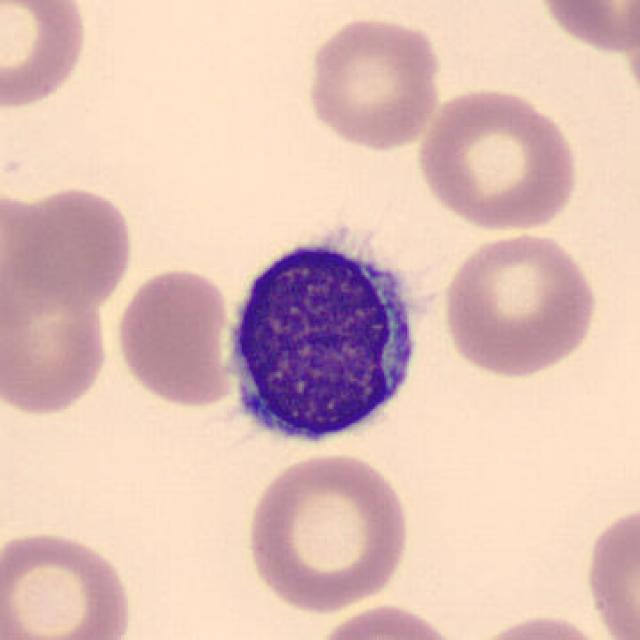Lymphocyte: (212, 216, 430, 456)
RBC: (240, 448, 416, 615), (413, 83, 583, 234), (437, 229, 603, 381), (0, 225, 117, 421), (302, 13, 446, 154), (112, 263, 240, 409), (3, 182, 137, 316), (0, 525, 139, 640), (0, 0, 91, 113), (579, 497, 640, 640), (310, 601, 468, 640), (531, 0, 640, 56), (457, 610, 620, 640)
